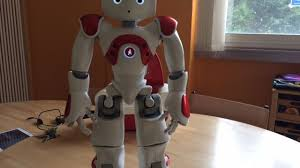nao: (63, 1, 193, 166)
